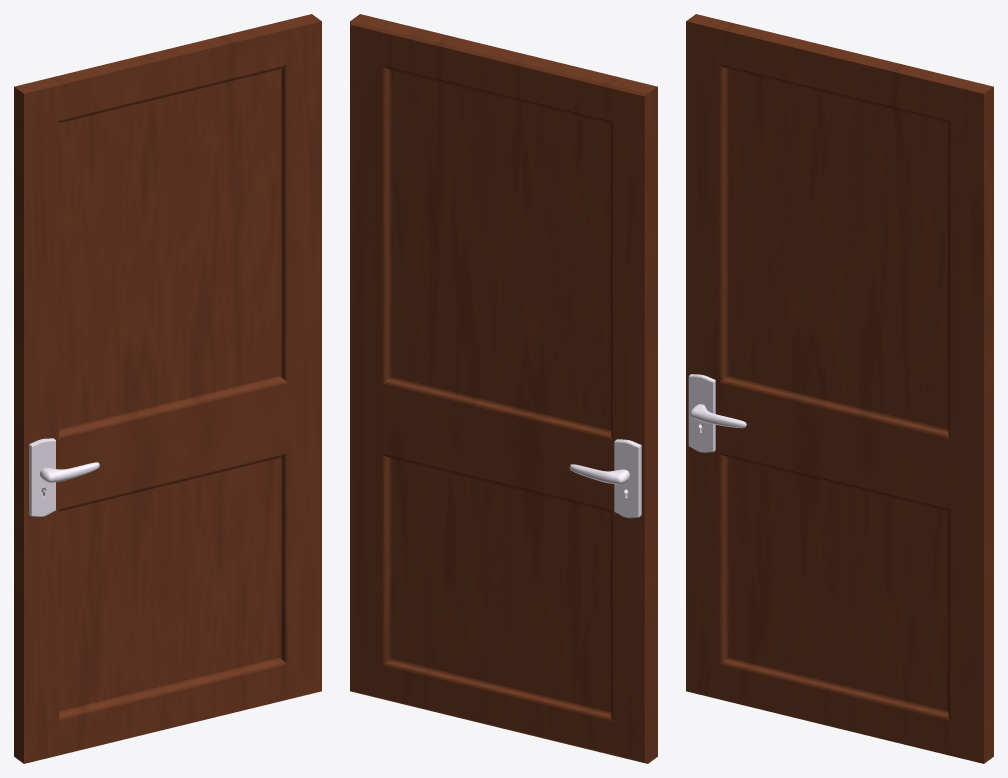
Rendered from BUKA PINTU.fbx.
3 views of the same model, side by side, from view 1: azimuth 30°, elevation 25°; view 2: azimuth 150°, elevation 25°; view 3: azimuth 330°, elevation 25° (orthographic).
Visible parts, largest first — view 1: BUKA PINTU, GAGANG, Sphere.016; view 2: BUKA PINTU, GAGANG, Sphere; view 3: BUKA PINTU, GAGANG, Sphere.016.
Boxes of the visible parts, x1,y1,x2,y2 form: BUKA PINTU: (14, 14, 321, 763); GAGANG: (29, 438, 55, 516); Sphere.016: (40, 462, 99, 482); BUKA PINTU: (350, 14, 657, 763); GAGANG: (614, 439, 641, 518); Sphere: (569, 464, 629, 484); BUKA PINTU: (686, 14, 993, 763); GAGANG: (688, 374, 715, 452); Sphere.016: (690, 404, 746, 428).
Bounding box in the file's own units: 604 × 1299 × 125.
Materials: 2 (1 with a texture image).
